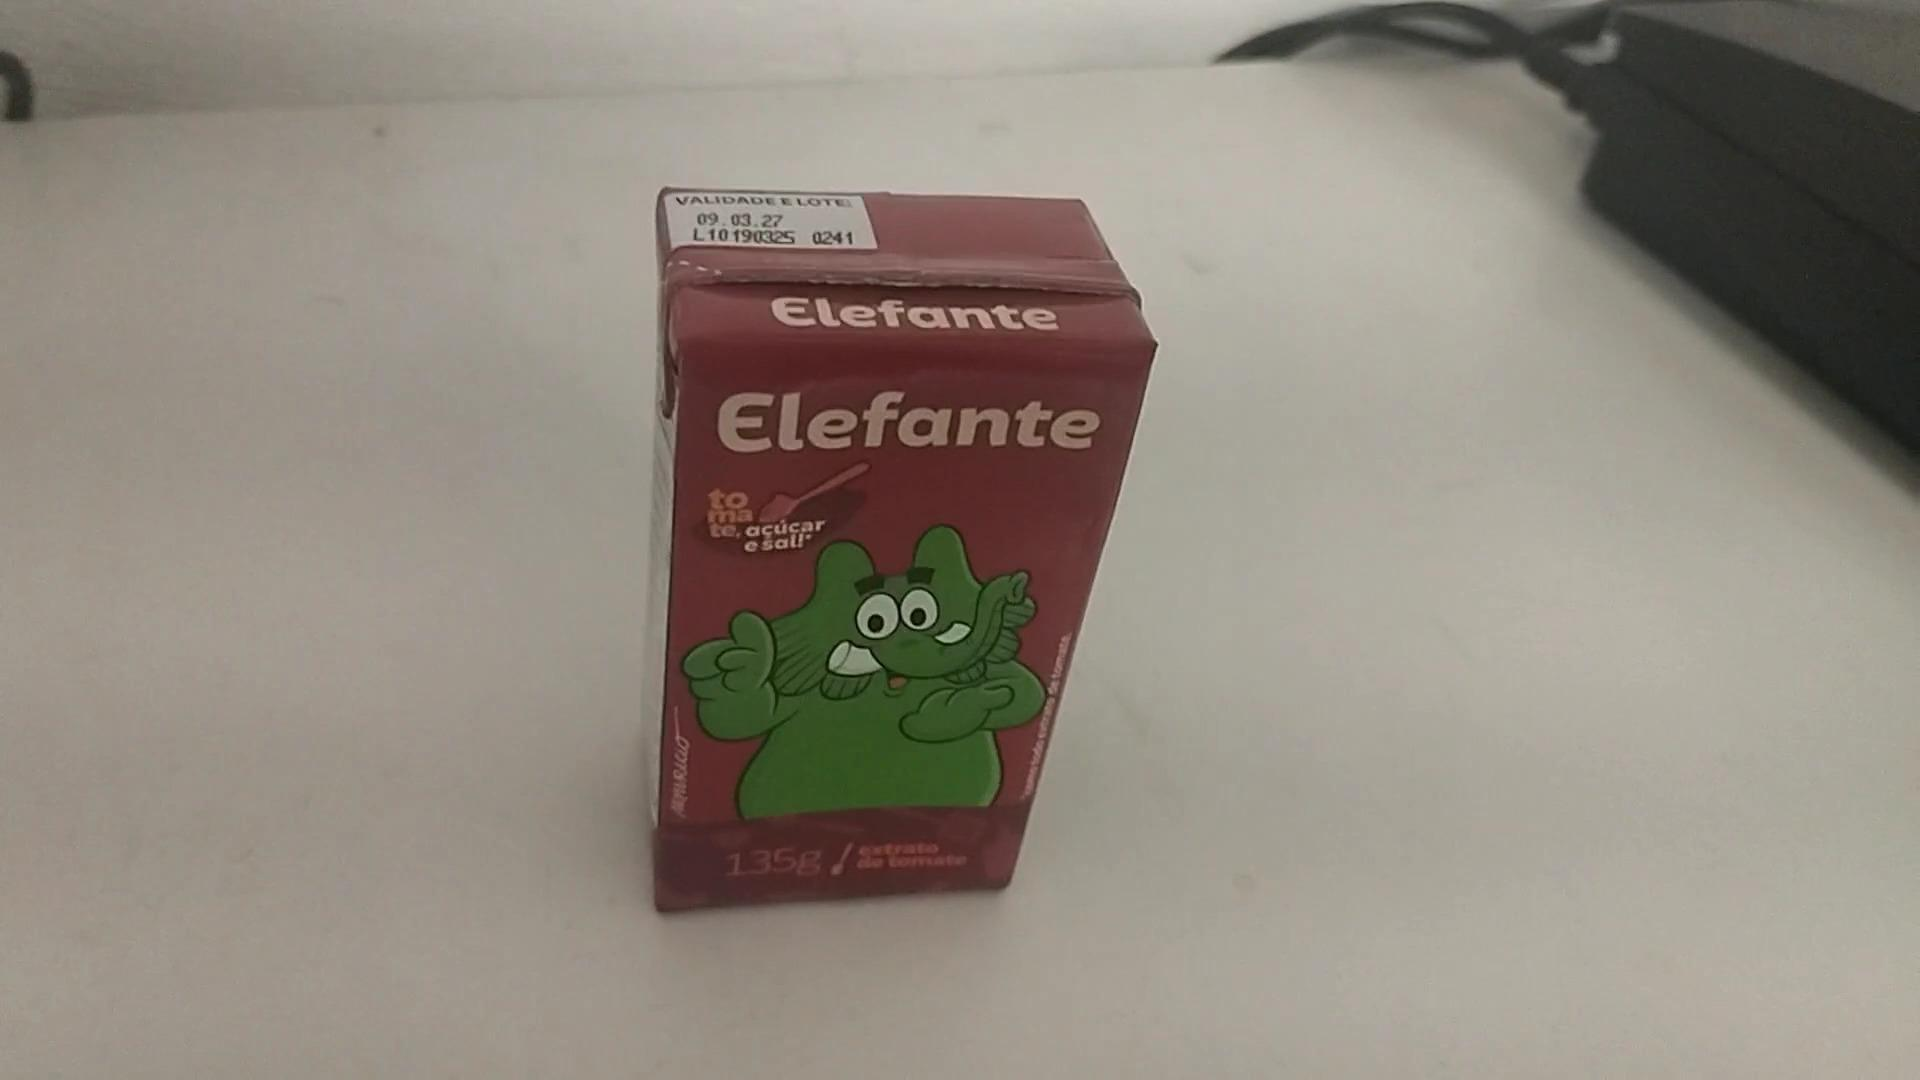tomate: (636, 175, 1168, 909)
